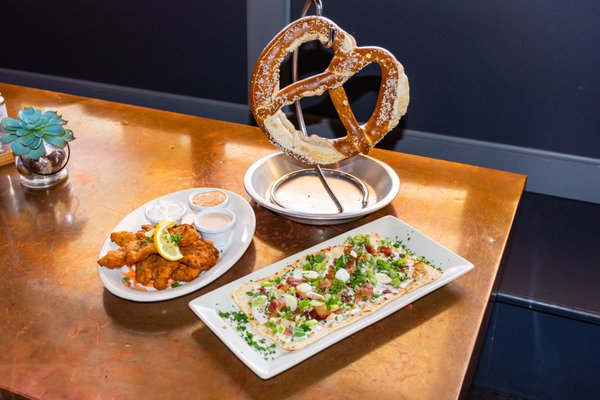curry: (1, 87, 503, 394)
salad: (249, 15, 409, 167)
sandwich: (213, 229, 443, 353)
soup: (5, 104, 74, 188)
